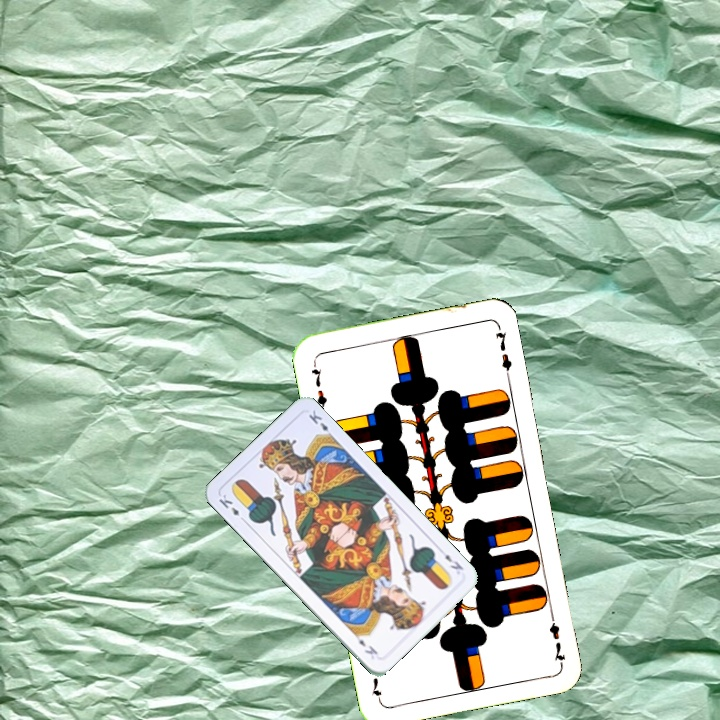E7: (545, 607, 568, 666), (307, 358, 330, 416)
EK: (215, 490, 248, 525), (436, 544, 466, 573)
